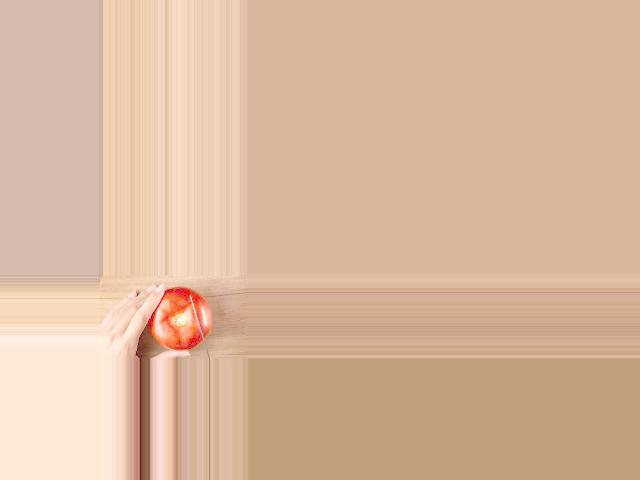tomato: (148, 287, 211, 350)
